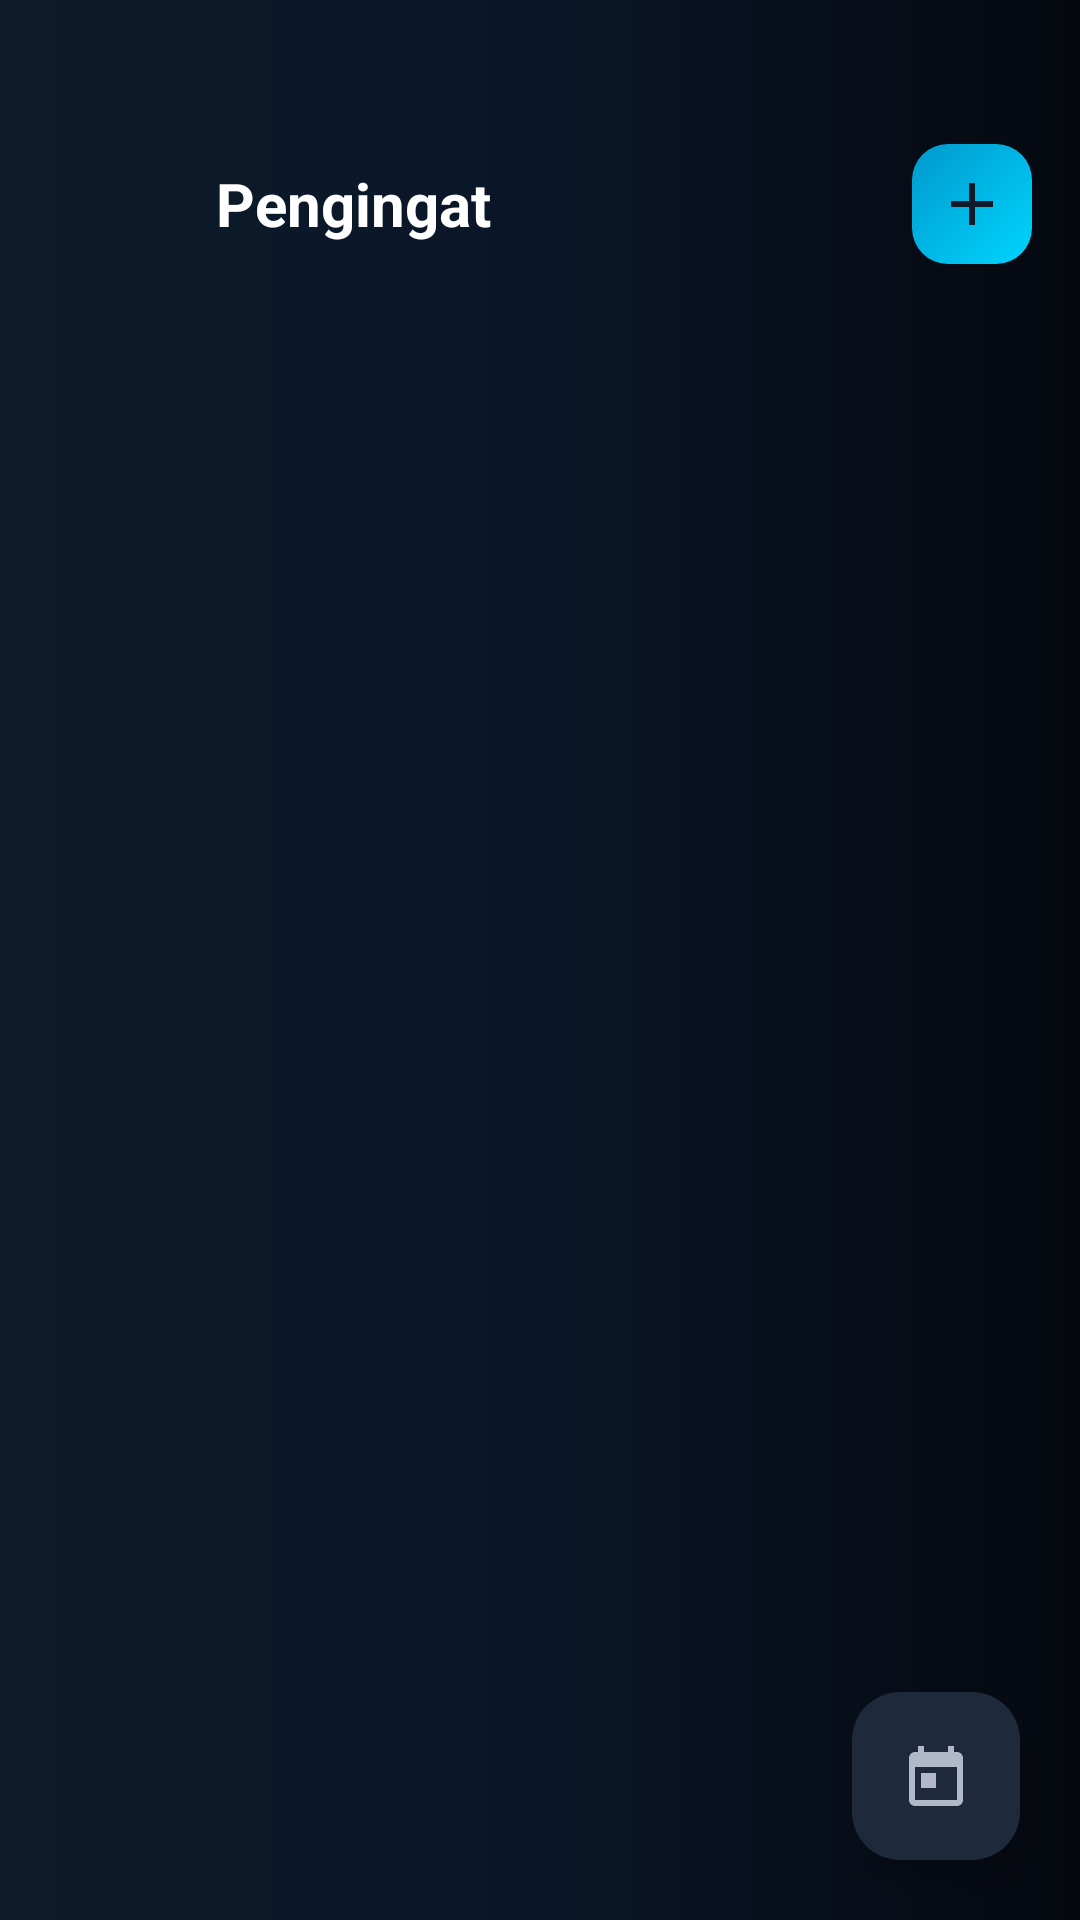

Locate icon controls on the screen. Image size 1080 x 1920, boxes as (x1, y1, x2, y2).
Filter berdasarkan tanggal: (852, 1692, 1020, 1860)
Tambah: (912, 144, 1032, 264)
